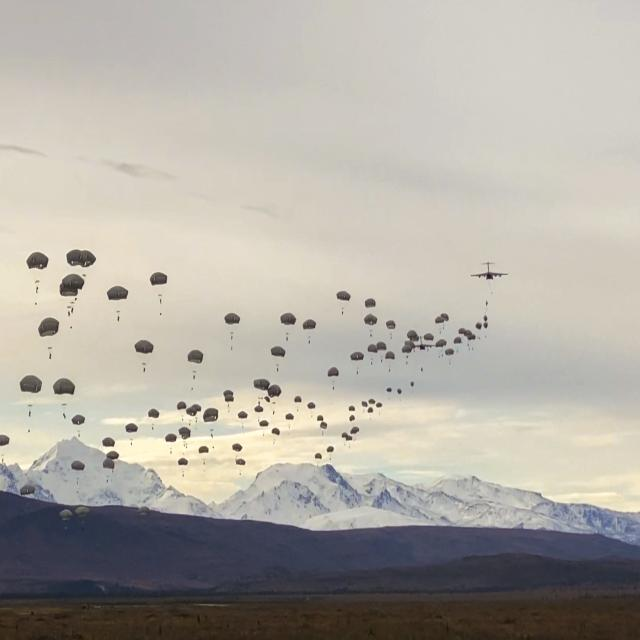MIL_Plane: (86, 261, 124, 280)
